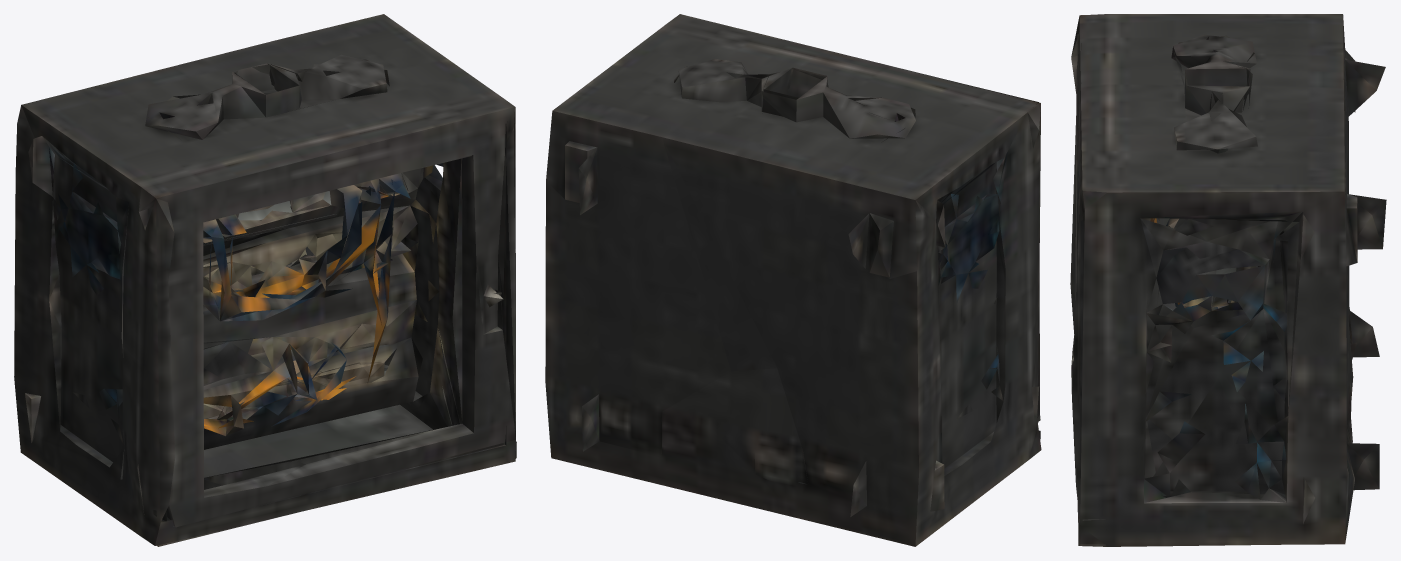
Rendered from p7-wall-data-cabinet.glb.
3 renders of one model, left to right at view 1: azimuth 30°, elevation 25°; view 2: azimuth 150°, elevation 25°; view 3: azimuth 270°, elevation 25°, orthographic.
Parts seen in each view (by area): view 1: p7-wall-data-cabinet; view 2: p7-wall-data-cabinet; view 3: p7-wall-data-cabinet.
Part boxes in pixels (box(x1,y1,x2,y2)): p7-wall-data-cabinet: box(14, 14, 516, 546); p7-wall-data-cabinet: box(545, 14, 1041, 546); p7-wall-data-cabinet: box(1070, 14, 1386, 546).
Bounding box in the file's own units: 0.6354 × 0.6 × 0.45.
1 material, 1 textured.
